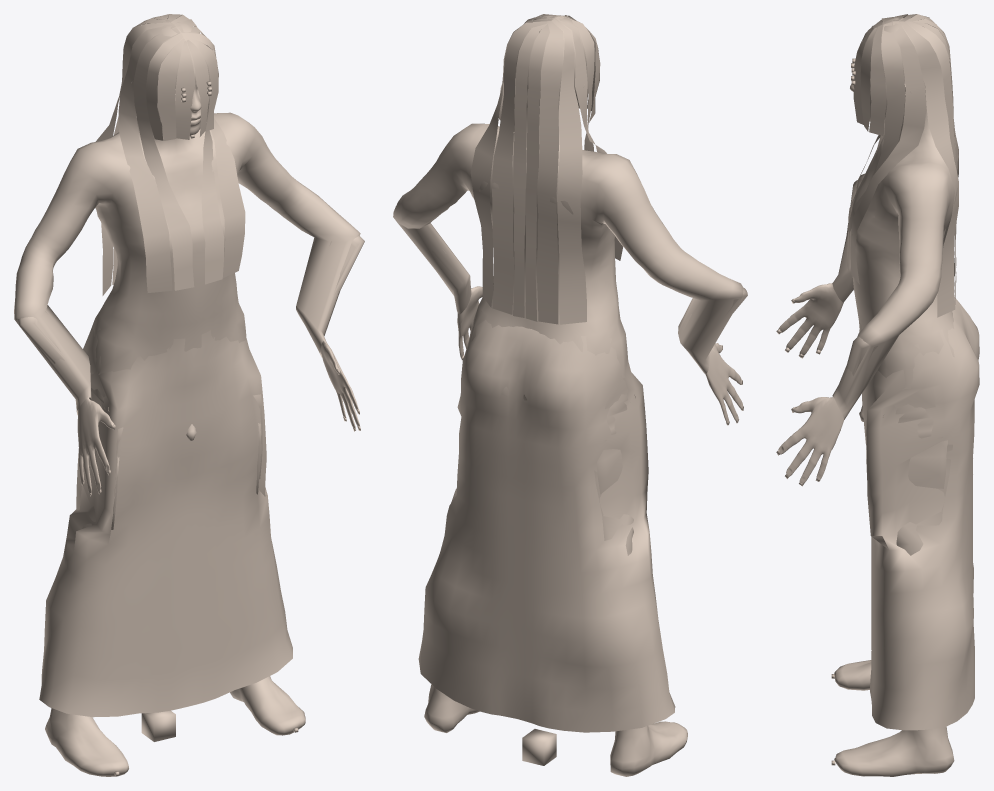
File: lingling-mpfb-base.glb
3 renders of one model, left to right at view 1: azimuth 30°, elevation 25°; view 2: azimuth 150°, elevation 25°; view 3: azimuth 270°, elevation 25°, orthographic.
Visible parts, largest first — view 1: Lingling_MPFB_CC0_Base; view 2: Lingling_MPFB_CC0_Base; view 3: Lingling_MPFB_CC0_Base.
Boxes of the visible parts, left/top/right/bottom form: Lingling_MPFB_CC0_Base: left=14, top=14, right=364, bottom=776; Lingling_MPFB_CC0_Base: left=393, top=14, right=747, bottom=776; Lingling_MPFB_CC0_Base: left=776, top=14, right=979, bottom=776.
Bounding box in the file's own units: 1.7 × 3.39 × 0.8734.
